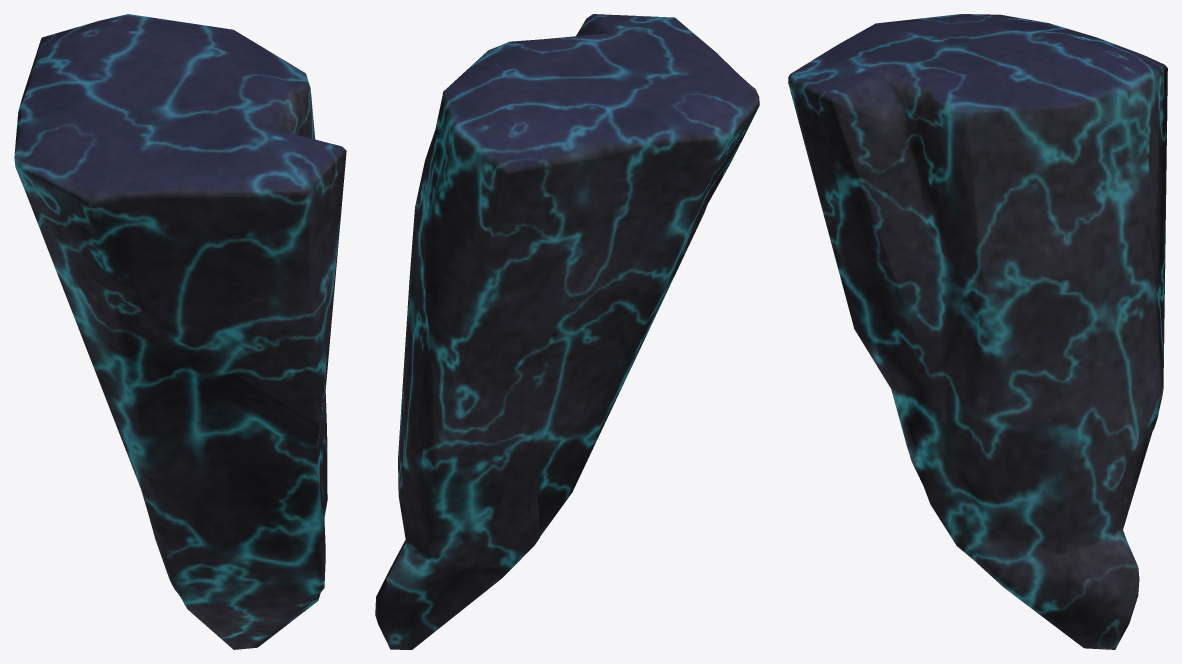
The model's file is caos_stl_cliffrock_01e_v35.glb.
3 renders of one model, left to right at view 1: azimuth 30°, elevation 25°; view 2: azimuth 150°, elevation 25°; view 3: azimuth 270°, elevation 25°, orthographic. The views are drawn at different scales.
Parts seen in each view (by area): view 1: caos_stl_cliffrock_01e; view 2: caos_stl_cliffrock_01e; view 3: caos_stl_cliffrock_01e.
Boxes of the visible parts, x1,y1,x2,y2 form: caos_stl_cliffrock_01e: [14, 14, 346, 649]; caos_stl_cliffrock_01e: [375, 14, 759, 649]; caos_stl_cliffrock_01e: [788, 14, 1167, 649].
Bounding box in the file's own units: 5.38 × 10.31 × 6.53.
Materials: 1 (1 with a texture image).
